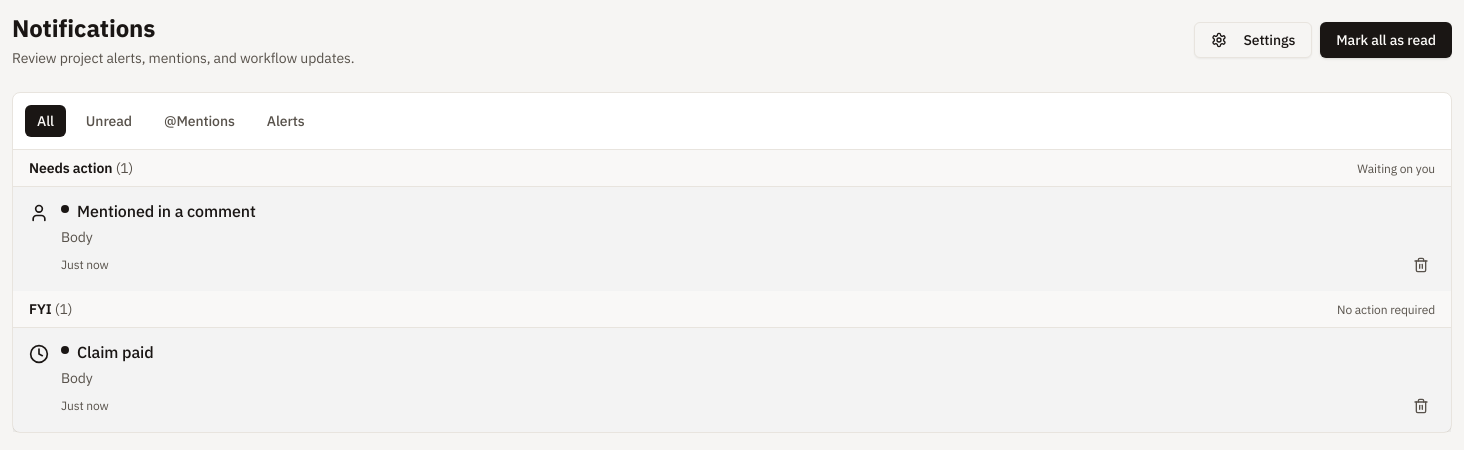
NotificationsPage › filters groups and exposes the selected filter to assistive technology
Expected: the text "Mentioned in a comment" is shown, [77,201,256,221]
Click the button "@Mentions" at (199, 121), box [152,105,247,137]
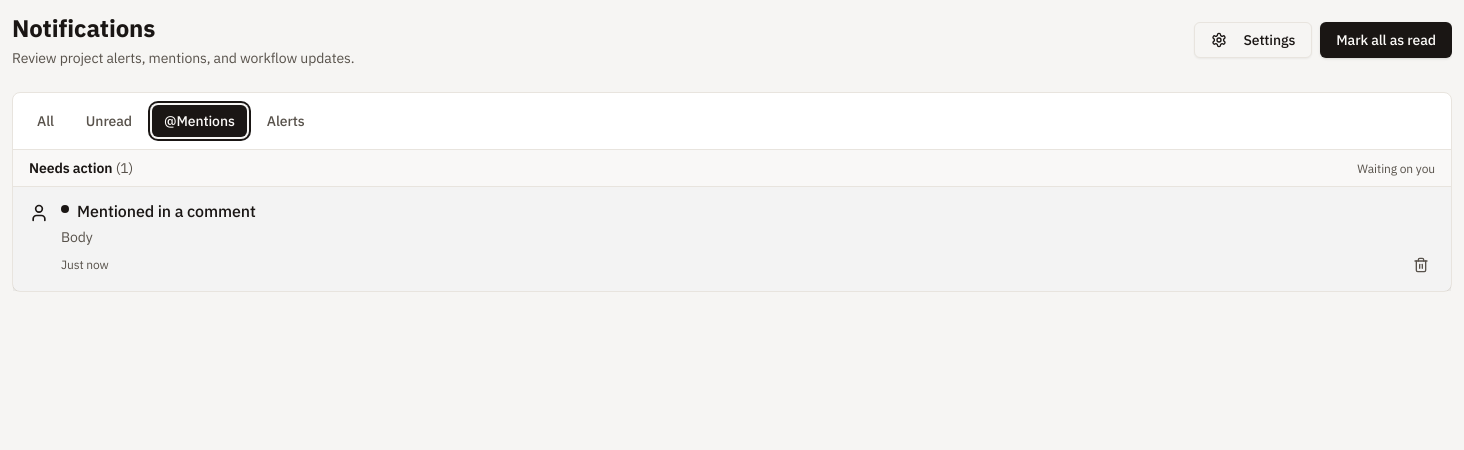
Expected: the text "Mentioned in a comment" is shown, [77,201,256,221]
Result: the button "Claim paid" is gone
